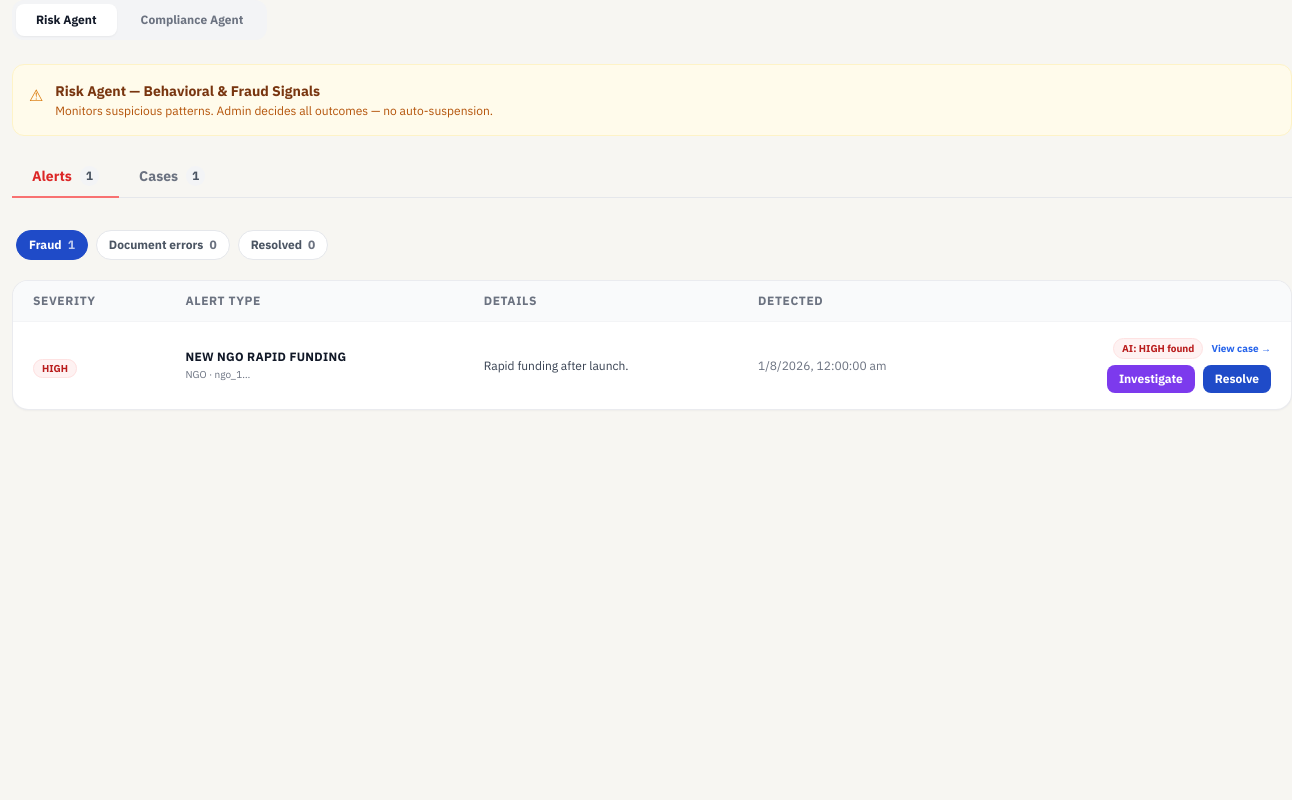
RiskComplianceClient — case navigation › the "View case" link on an alert with a linked review switches tabs on click
Click the button "View case →": (1241, 348) [1211,341,1271,356]
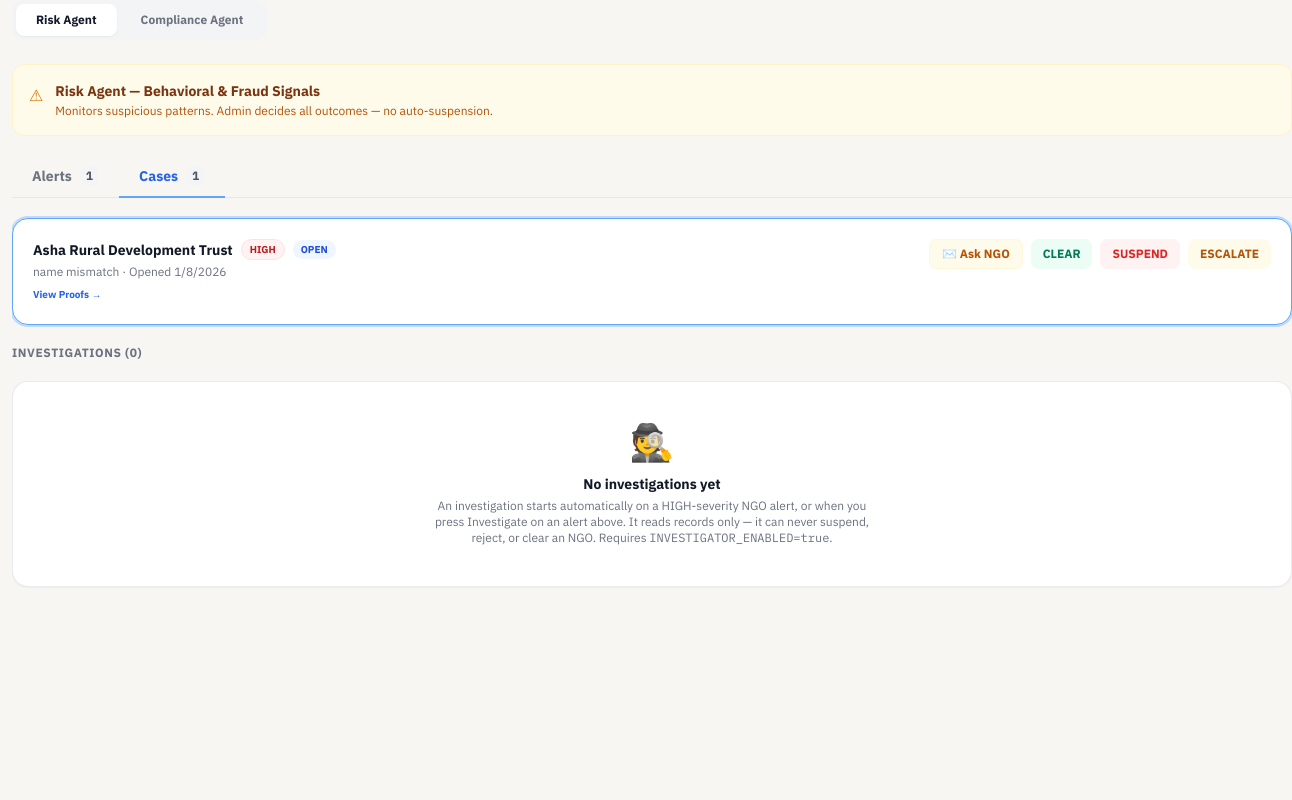
Expected: the link "Asha Rural Development Trust" is shown, [33,240,233,260]
